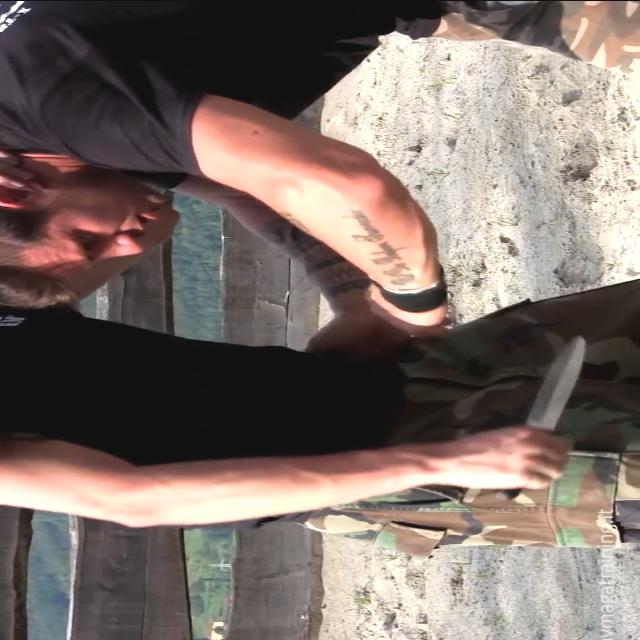knife: (481, 328, 601, 506)
